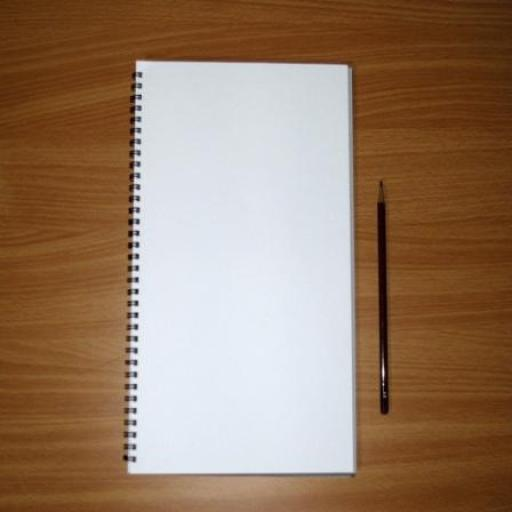paper: (98, 18, 368, 509)
